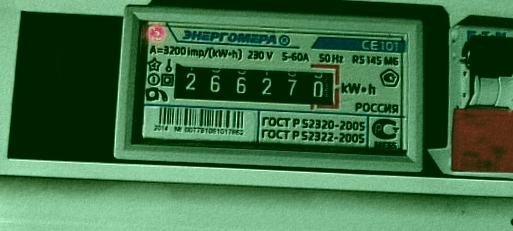0: (310, 78, 325, 98)
2: (184, 70, 198, 92), (260, 76, 274, 96)
6: (209, 72, 221, 94), (235, 74, 248, 94)
7: (286, 77, 297, 96)
screen: (162, 52, 347, 115)
